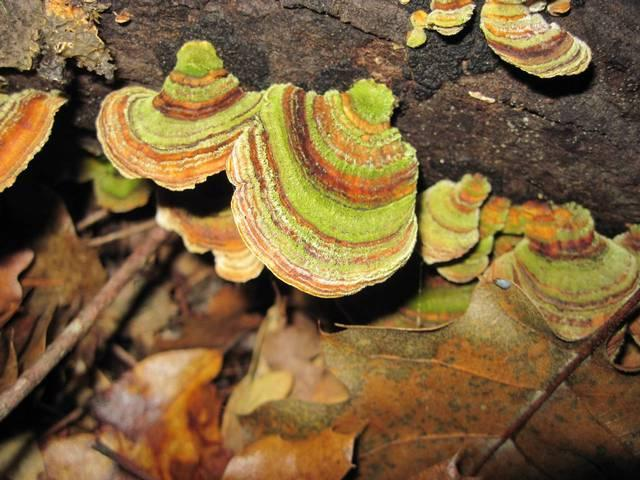Non-edible Mushroom: (0, 34, 245, 221), (224, 77, 420, 299), (418, 155, 640, 351), (478, 0, 593, 79)
